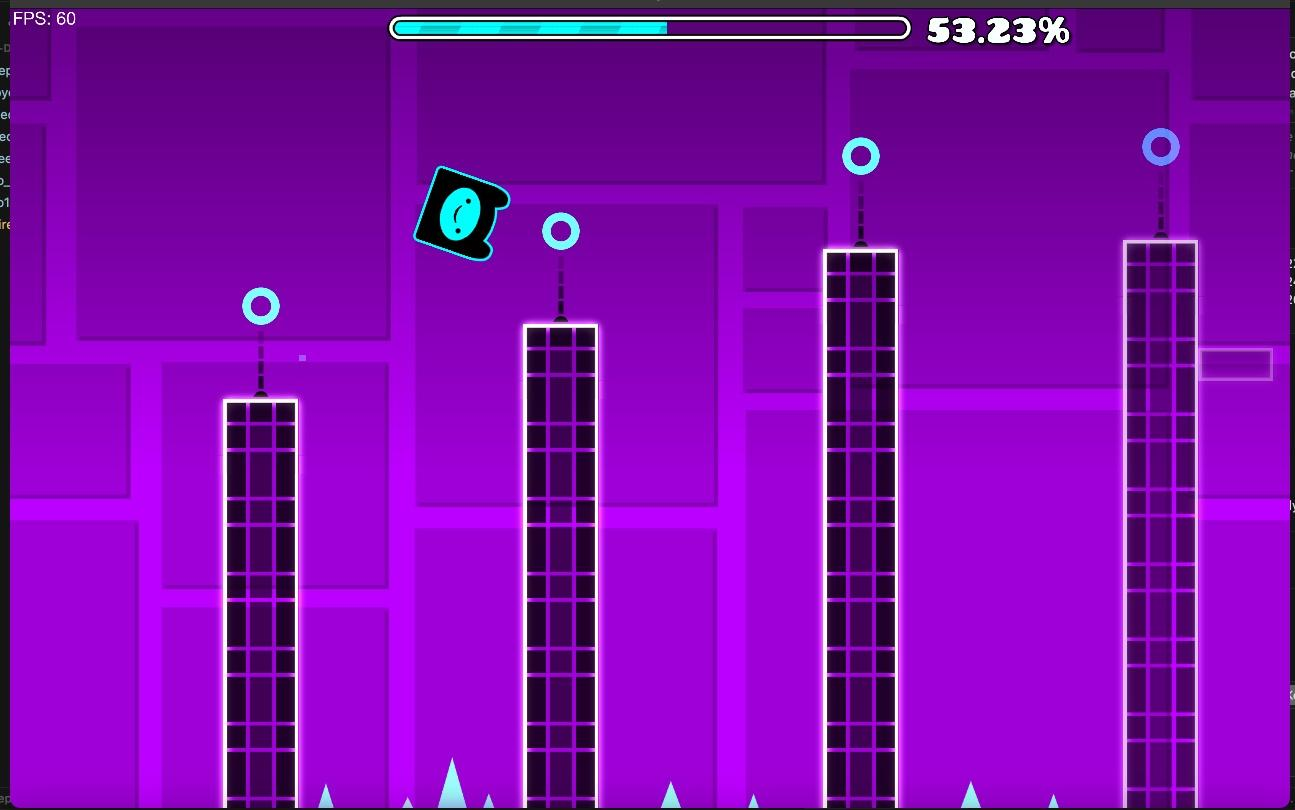block: (824, 250, 897, 809), (1127, 240, 1194, 810), (526, 321, 598, 810), (226, 399, 293, 806)
player: (415, 166, 509, 261)
spike: (437, 760, 467, 807), (662, 782, 681, 807), (961, 783, 980, 807), (319, 784, 334, 807), (1047, 795, 1057, 807), (748, 794, 757, 807), (484, 794, 493, 806)
